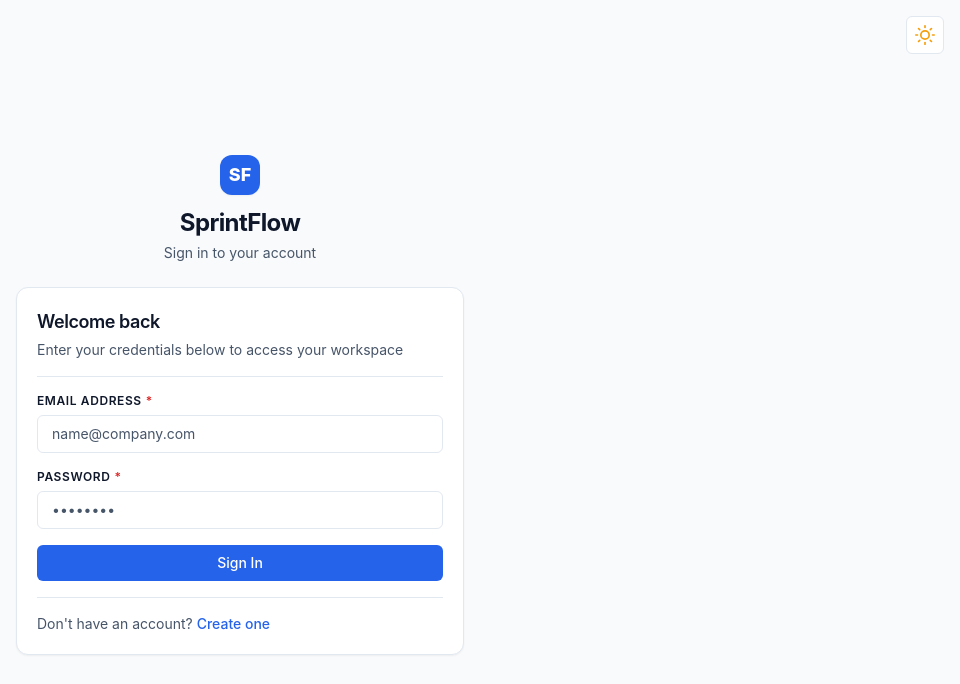
Test: LoginPage Component › validates invalid email format inline
Type "not-an-email" into the field labelled "Email Address*" at (240, 434), box [37,415,443,453]
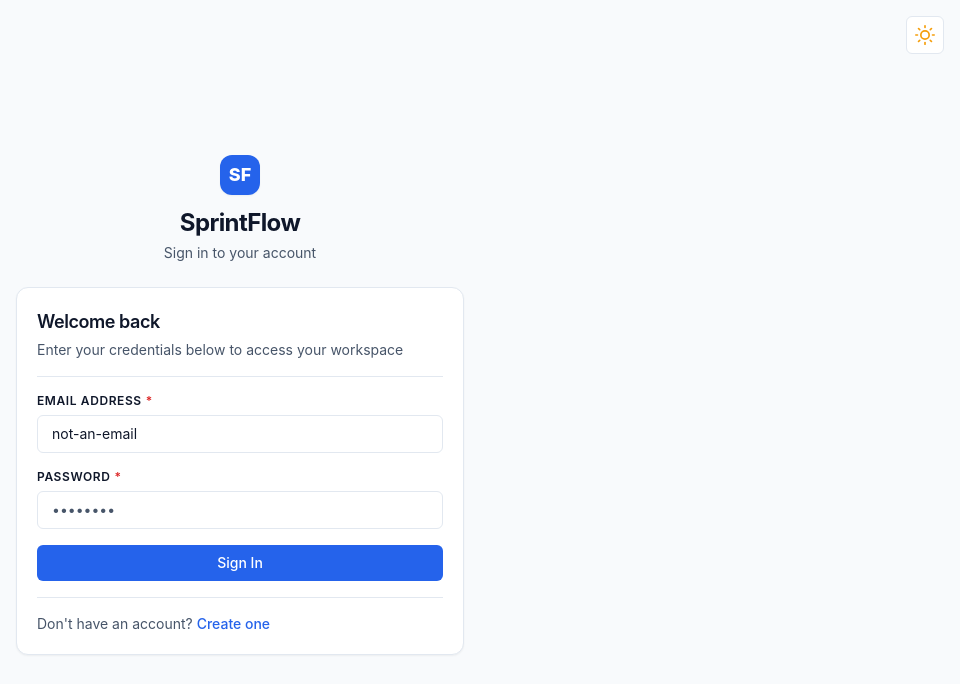
Type "Secret123!" into the password field labelled "Password*" at (240, 510), box [37,491,443,529]
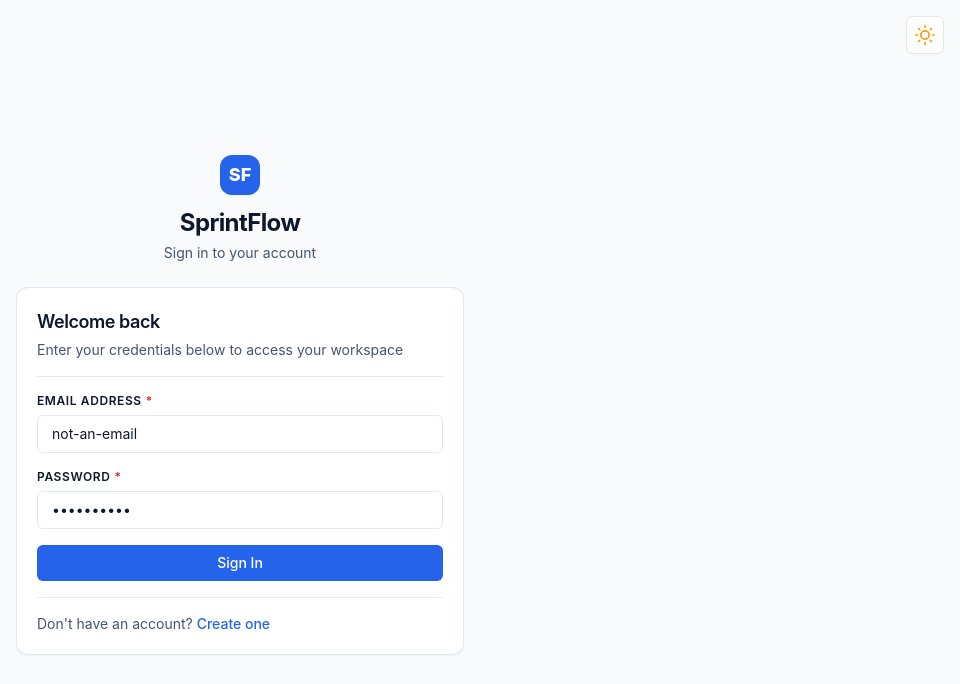
Click the button "Sign In" at (240, 563), box [37,545,443,581]
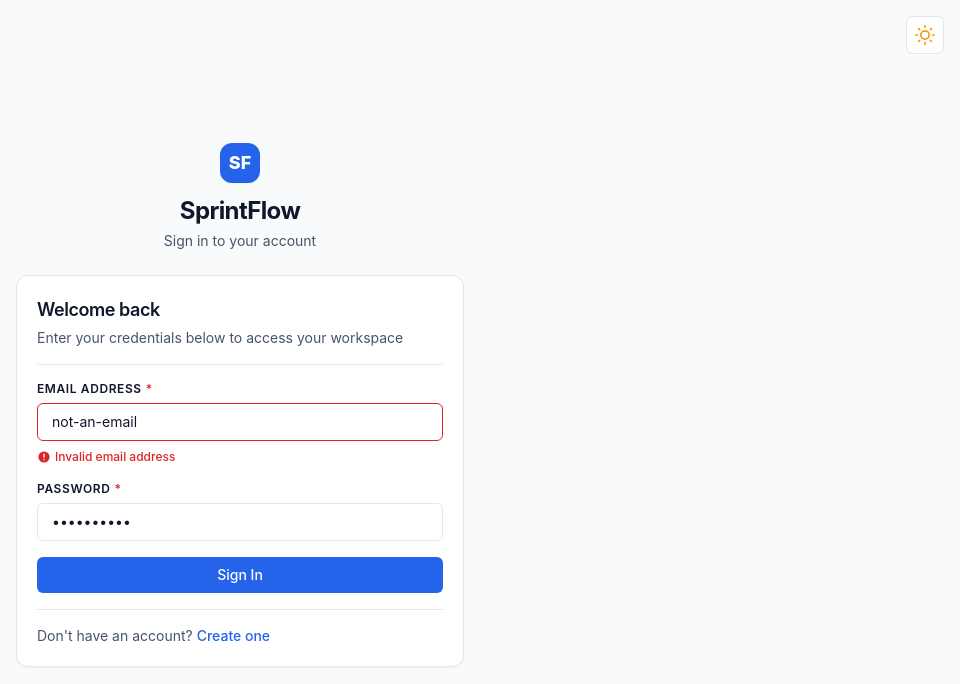
expect the text "Invalid email address" is shown: met, box [55,449,175,465]
